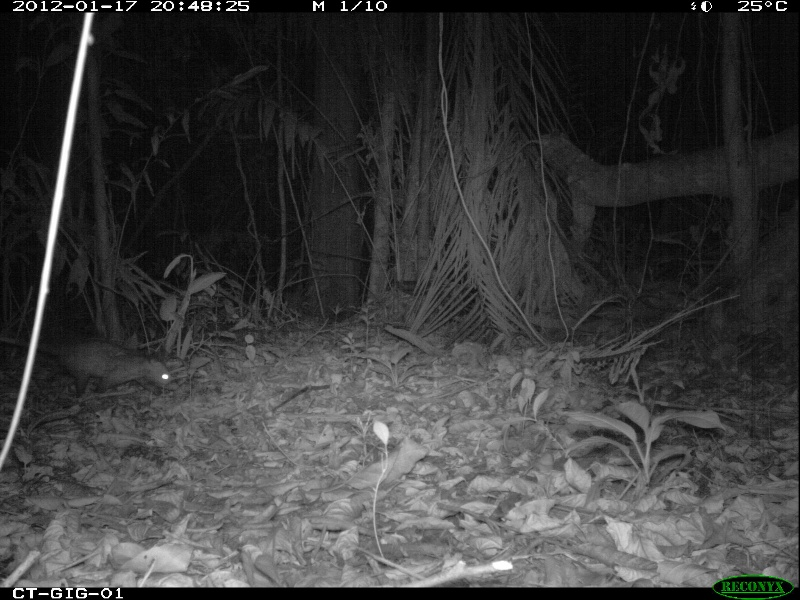opossum: (8, 334, 181, 392)
